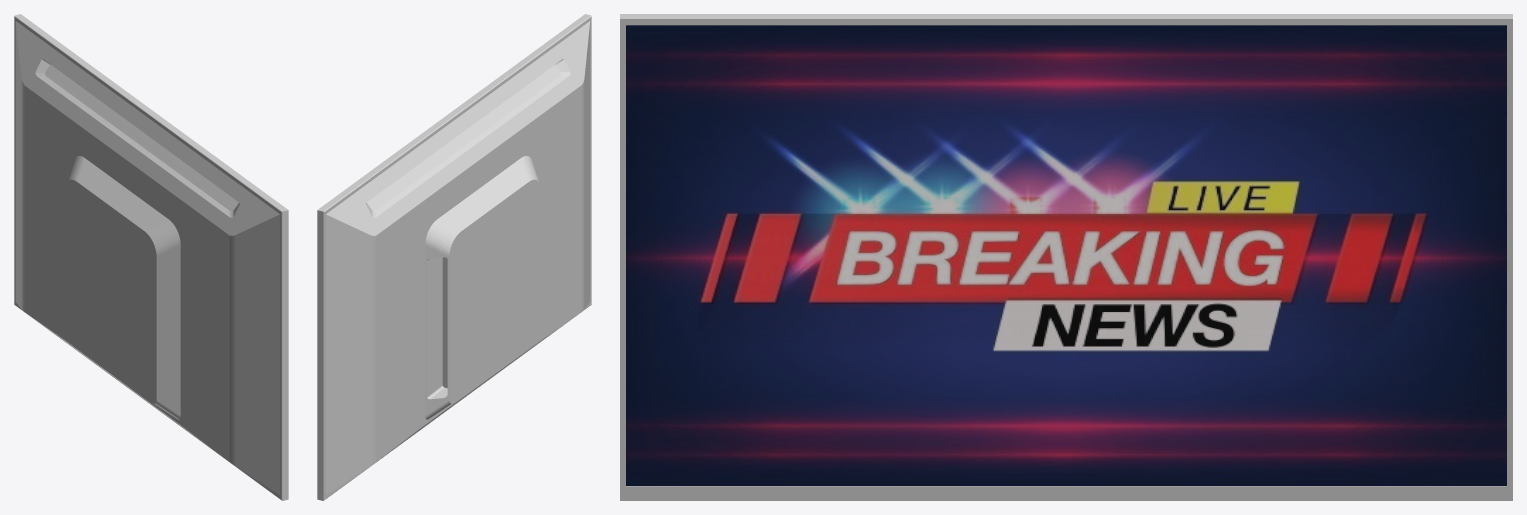
3 views of the same model, side by side, from view 1: azimuth 30°, elevation 25°; view 2: azimuth 150°, elevation 25°; view 3: azimuth 270°, elevation 25° (orthographic). The views are drawn at different scales.
Parts seen in each view (by area): view 1: Plane_8; view 2: Plane_8; view 3: Plane002_Plane004, Plane_8.
Boxes of the visible parts, left/top/right/bottom form: Plane_8: left=14, top=14, right=288, bottom=500; Plane_8: left=317, top=14, right=591, bottom=500; Plane002_Plane004: left=626, top=25, right=1506, bottom=485; Plane_8: left=620, top=14, right=1512, bottom=500.
Size of the model in its own units: 0.5675 by 3.57 by 6.
2 materials, 1 textured.
